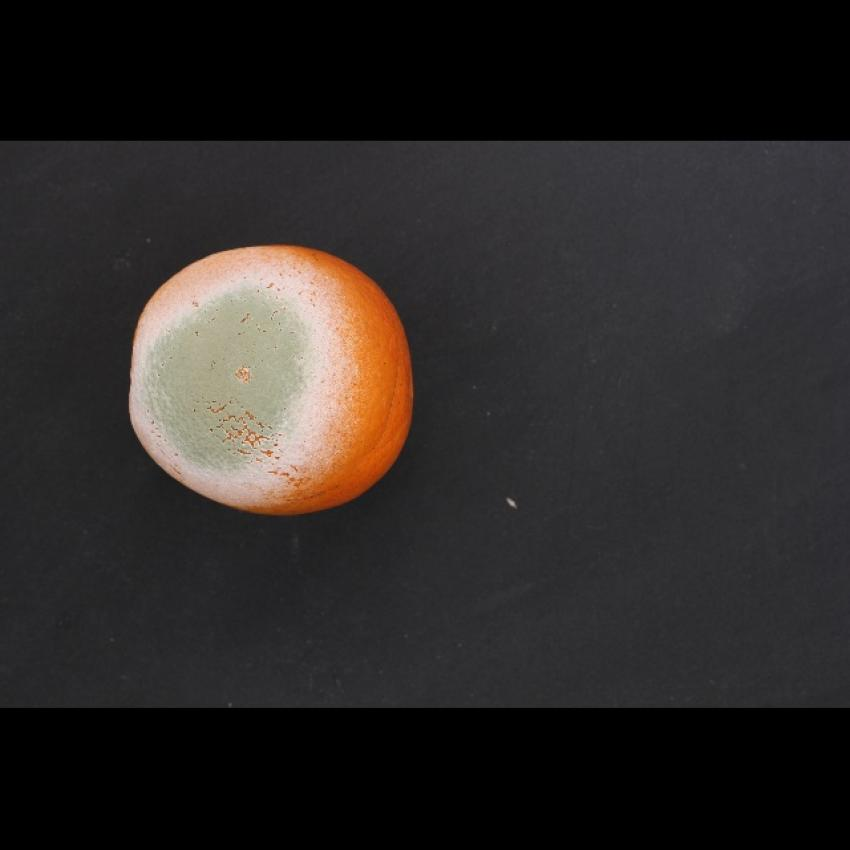Mal estado: (125, 233, 421, 520)
